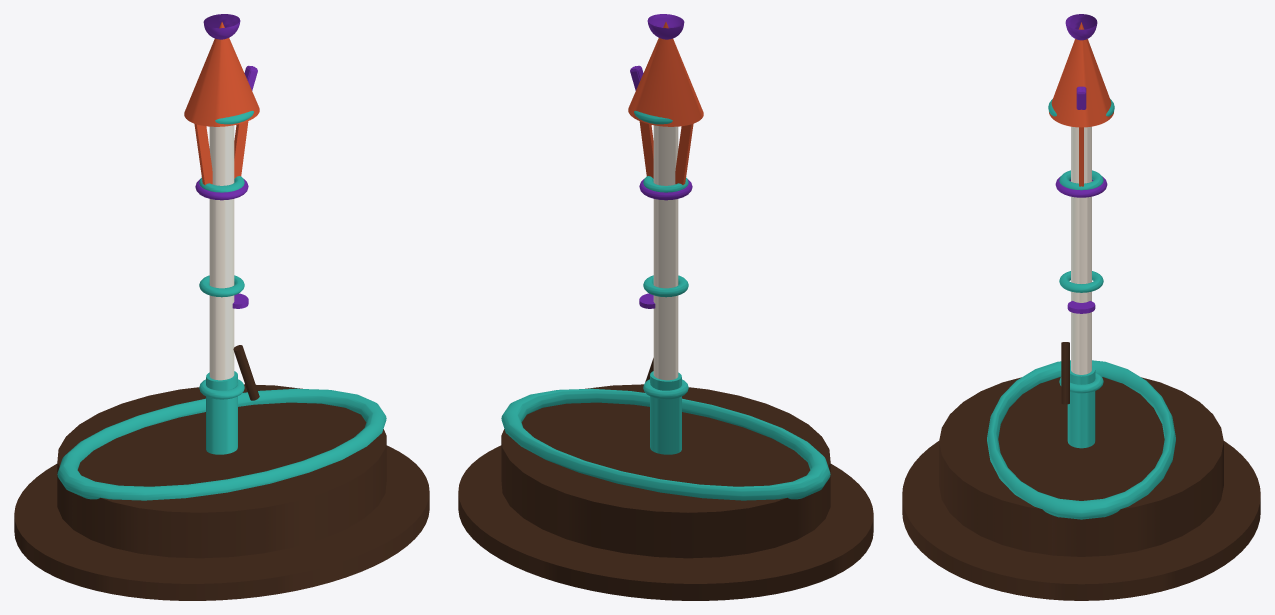
The model's file is 0530_古代奥运图鉴_武装赛跑盾牌.glb.
3 renders of one model, left to right at view 1: azimuth 30°, elevation 25°; view 2: azimuth 150°, elevation 25°; view 3: azimuth 270°, elevation 25°, orthographic.
Parts seen in each view (by area): view 1: card_0530; view 2: card_0530; view 3: card_0530.
Part boxes in pixels (<box>): card_0530: <box>14,14,429,600</box>; card_0530: <box>458,14,873,600</box>; card_0530: <box>902,14,1260,600</box>.
Size of the model in its own units: 0.7822 by 1 by 0.6636.
